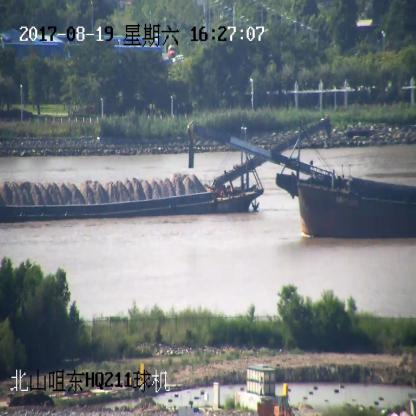Bulk Carrier: (188, 121, 416, 240)
